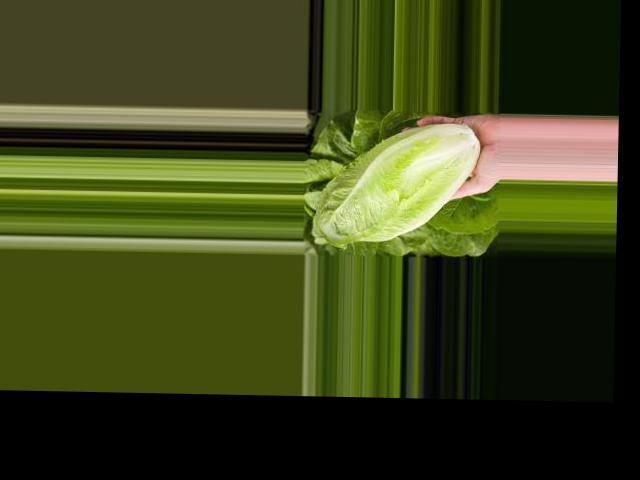lettuce: (314, 98, 461, 249)
